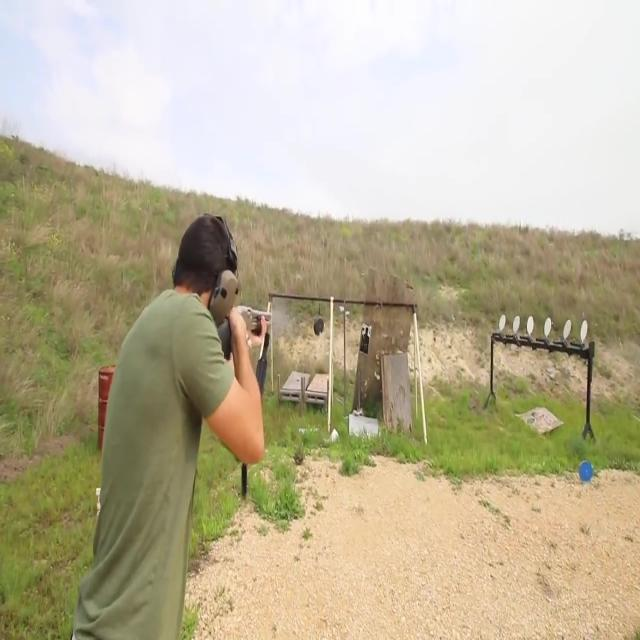Weapon: (198, 278, 286, 404)
